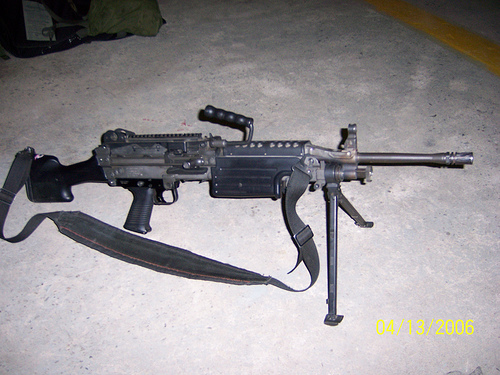rifle: (28, 81, 480, 307)
